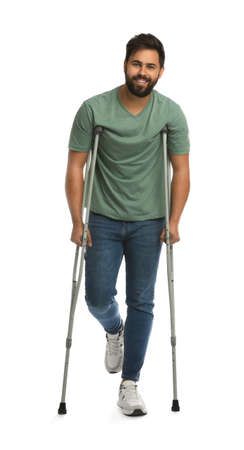crutches: (59, 33, 191, 416)
